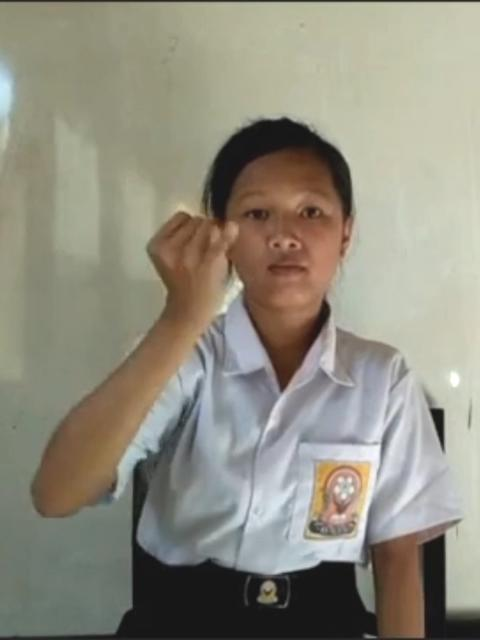J: (144, 205, 241, 328)
